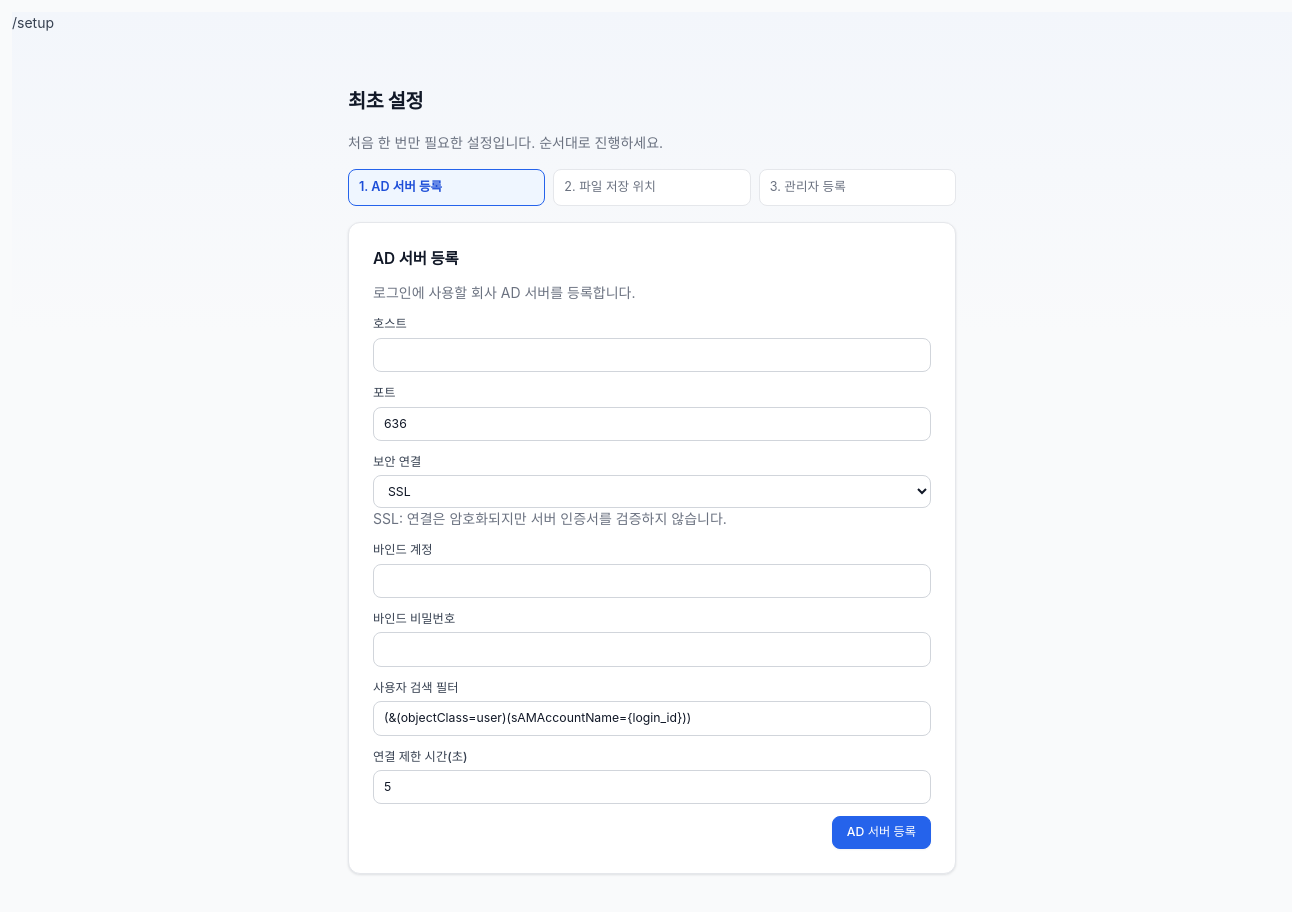
Test: 보안 연결 방식과 포트 (AC8) › switches to the default port of the chosen mode
Check: the heading "AD 서버 등록" is shown, box [373,249,458,268]
Select "없음" in the dropdown labelled "보안 연결" at (652, 492), box [373,475,931,508]
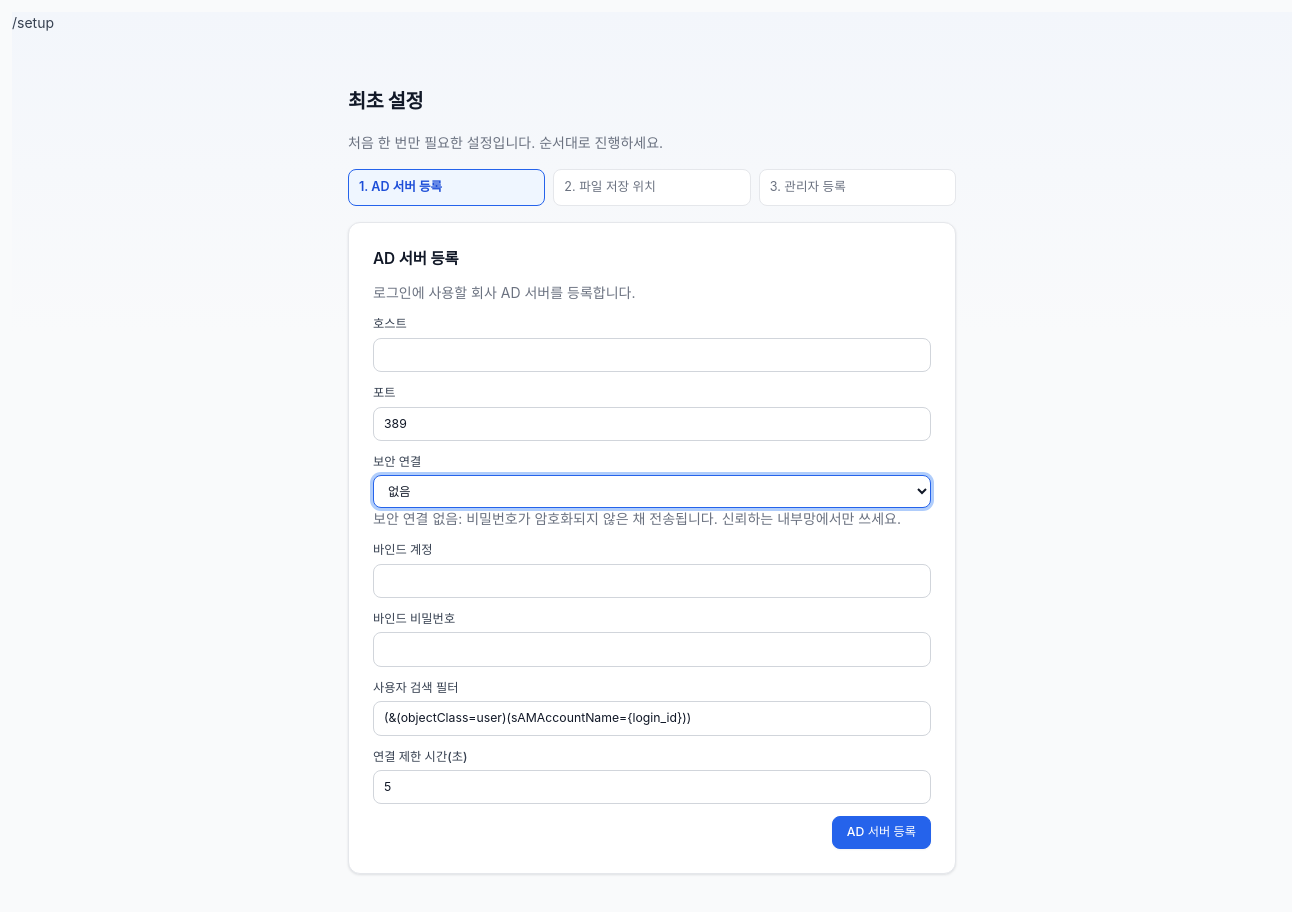
Check: the number field labelled "포트" holds "389", box [373,406,931,441]
Select "StartTLS" in the dropdown labelled "보안 연결" at (652, 492), box [373,475,931,508]
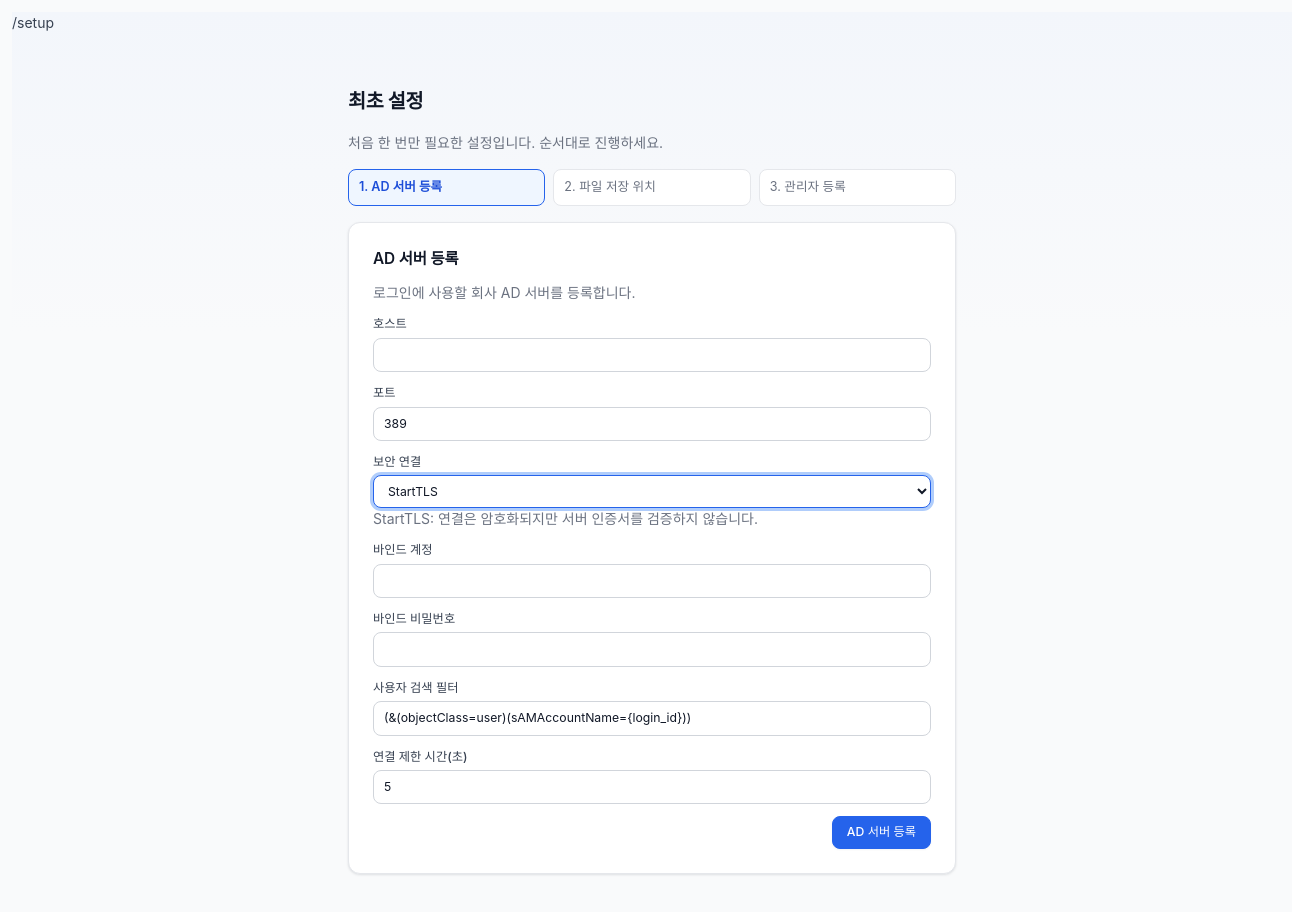
Check: the number field labelled "포트" holds "389", box [373,406,931,441]
Select "SSL" in the dropdown labelled "보안 연결" at (652, 492), box [373,475,931,508]
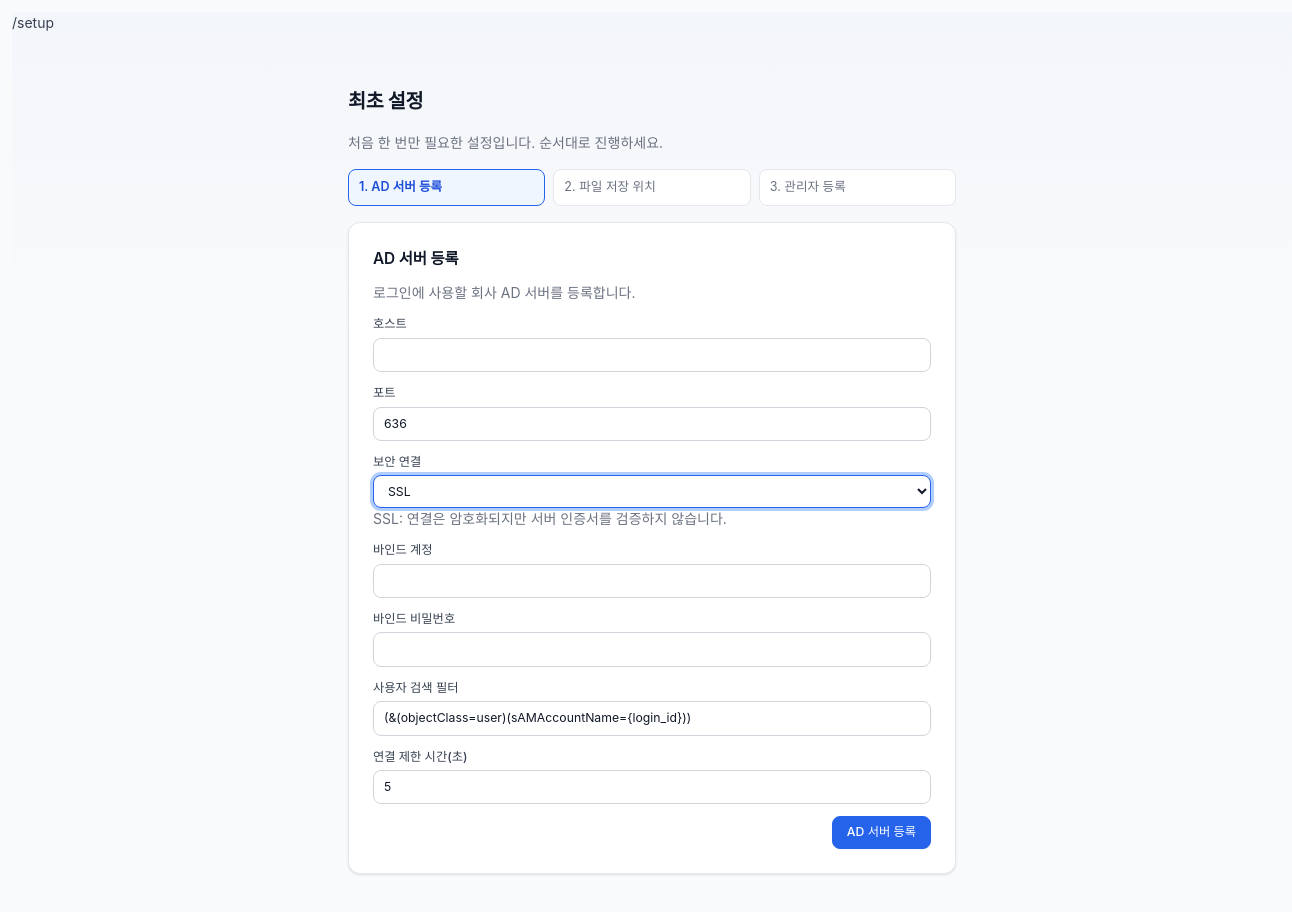
Check: the number field labelled "포트" holds "636", box [373,406,931,441]
